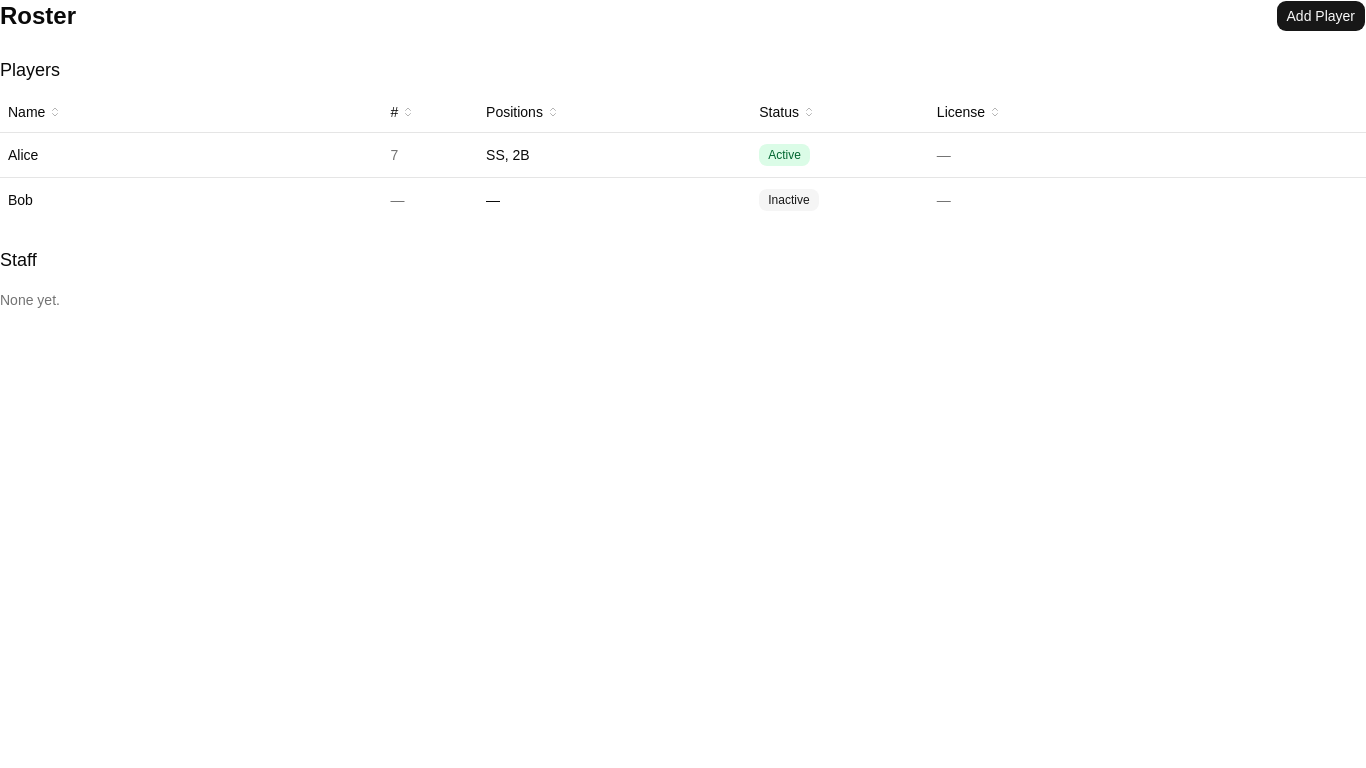
PlayersPage › "Add Player" button opens the dialog
Check: the text "Alice" is shown, box [0,132,382,177]
Step 1. Click the button "Add Player" → x=1321, y=16, box [1276,0,1365,32]
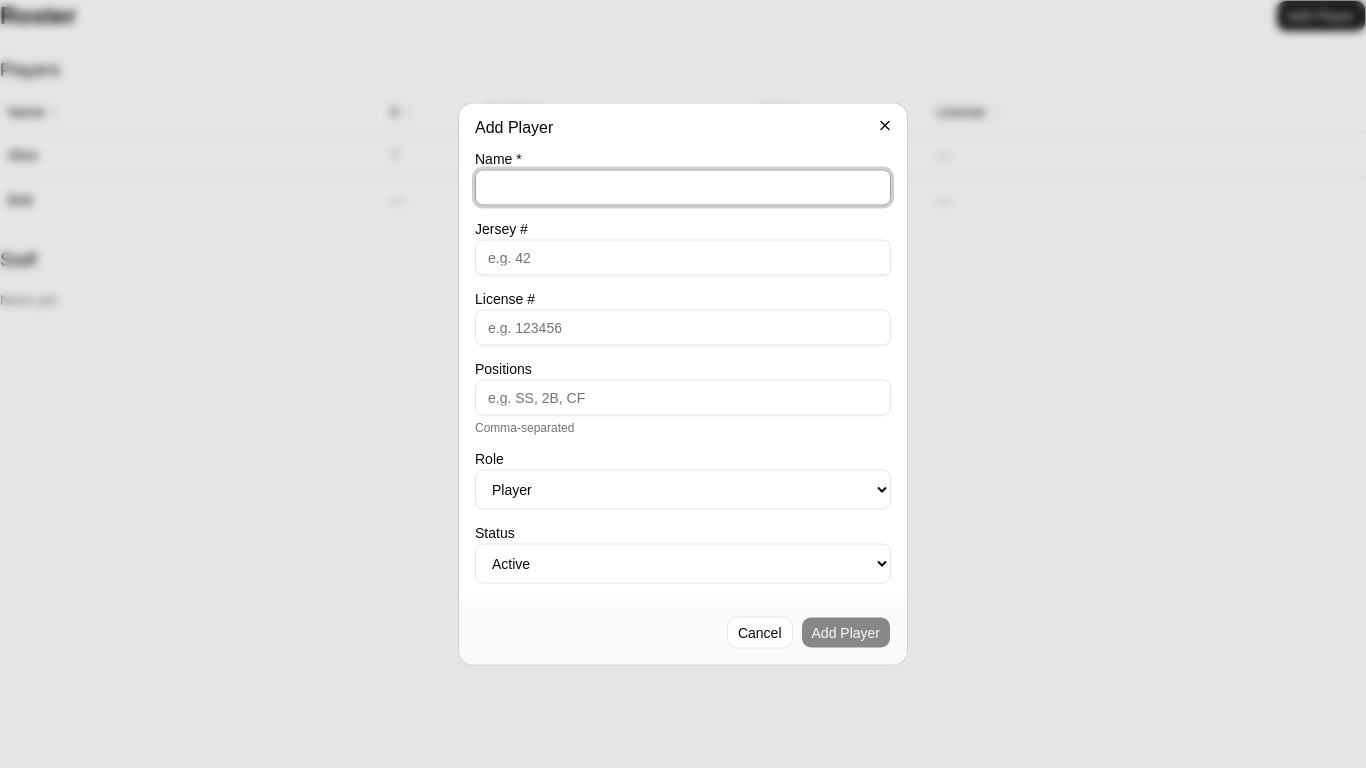
Check: the heading "Add Player" is shown, box [475,118,553,136]
